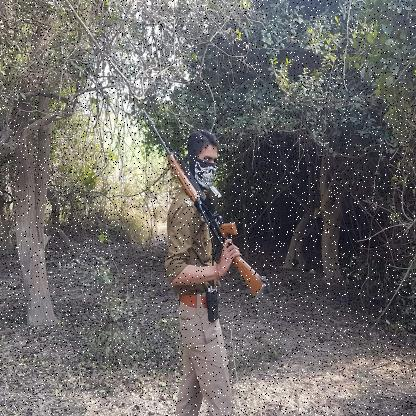rifle: (141, 108, 268, 304)
